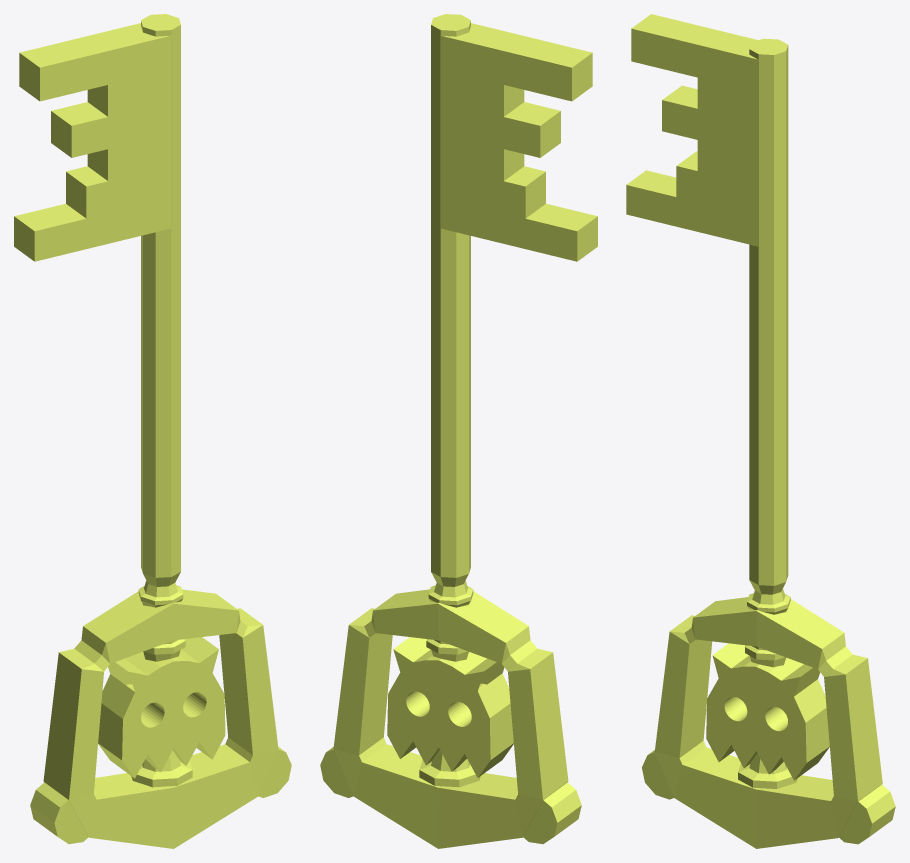
File: anahtar.glb
The picture shows the model from 3 angles, left to right: view 1: azimuth 30°, elevation 25°; view 2: azimuth 150°, elevation 25°; view 3: azimuth 330°, elevation 25°; orthographic projection. The views are drawn at different scales.
Parts seen in each view (by area): view 1: bow, bits, shaft, skulls; view 2: bow, bits, shaft, skulls; view 3: bow, shaft, bits, skulls.
Part boxes in pixels (<box>): bow: <box>30,589,291,848</box>; bits: <box>14,23,170,261</box>; shaft: <box>131,14,192,787</box>; skulls: <box>98,637,225,778</box>; bow: <box>320,589,581,848</box>; bits: <box>441,23,597,261</box>; shaft: <box>419,14,480,787</box>; skulls: <box>387,637,513,777</box>; bow: <box>642,597,895,848</box>; shaft: <box>738,38,797,788</box>; bits: <box>626,14,758,246</box>; skulls: <box>706,643,829,780</box>.
Size of the model in its own units: 229 by 700 by 50.77.
